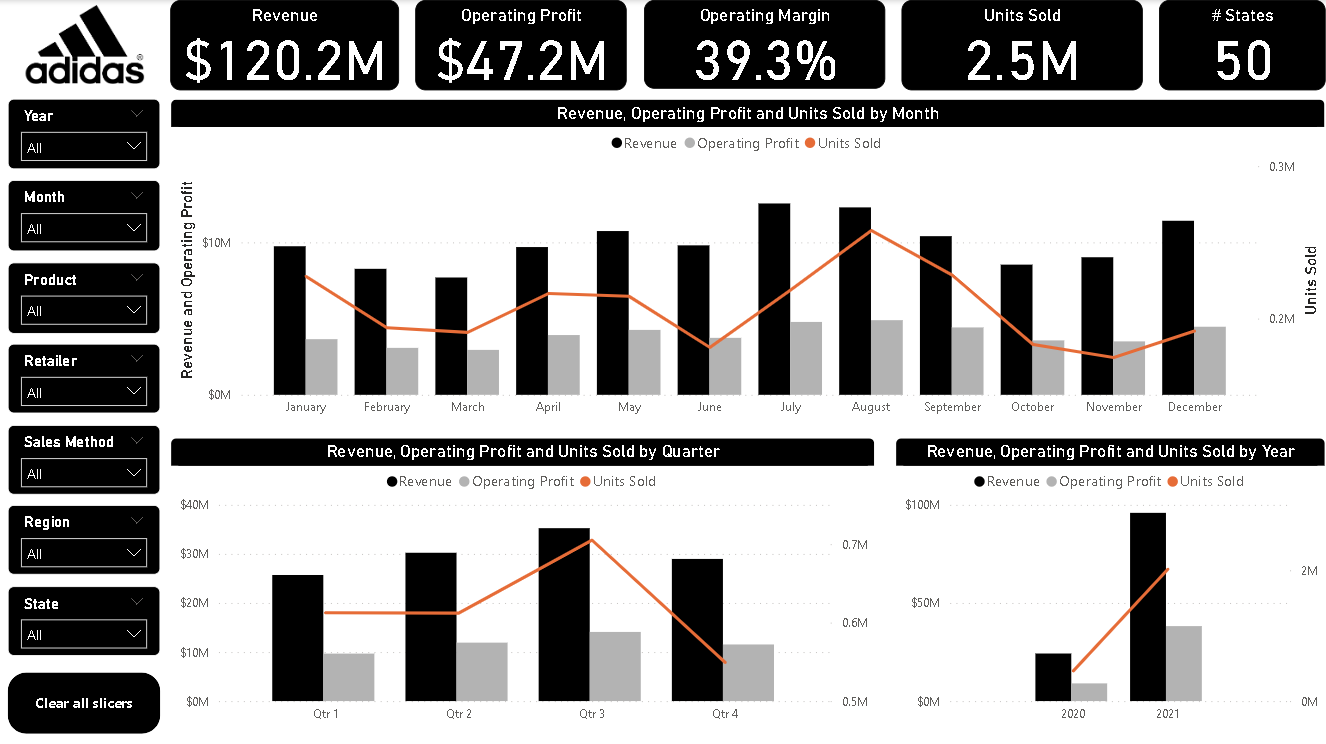

This screenshot's page, from the dashboard's own definition file:
{"tool":"powerbi","page":{"name":"Time","canvas":[1280,720],"ordinal":0},"visuals":[{"type":"card","title":"Revenue","fields":{"Values":["Sum(Data Sales Adidas.Revenue)"]},"box":[165.2,0,220.7,86.8],"z":0},{"type":"card","title":"Operating Profit","fields":{"Values":["Sum(Data Sales Adidas.Operating Profit)"]},"box":[402,0,203.8,86.8],"z":1000},{"type":"card","title":"Operating Margin","fields":{"Values":["Data Sales Adidas.Operating Margin Measure"]},"box":[621.9,0,232.8,85.6],"z":2000},{"type":"card","title":"Units Sold","fields":{"Values":["Sum(Data Sales Adidas.Units Sold)"]},"box":[870.8,0,232.8,86.8],"z":3000},{"type":"lineClusteredColumnComboChart","fields":{"Category":["Data Sales Adidas.Invoice Date.Variation.Date Hierarchy.Quarter"],"Y":["Sum(Data Sales Adidas.Revenue)","Sum(Data Sales Adidas.Operating Profit)"],"Y2":["Sum(Data Sales Adidas.Units Sold)"]},"box":[165.2,422.1,680.2,285.8],"z":4000},{"type":"lineClusteredColumnComboChart","fields":{"Category":["Data Sales Adidas.Invoice Date.Variation.Date Hierarchy.Month"],"Y":["Sum(Data Sales Adidas.Revenue)","Sum(Data Sales Adidas.Operating Profit)"],"Y2":["Sum(Data Sales Adidas.Units Sold)"]},"box":[165.2,95.3,1114.4,317.2],"z":5000},{"type":"lineClusteredColumnComboChart","fields":{"Category":["Data Sales Adidas.Invoice Date.Variation.Date Hierarchy.Year"],"Y":["Sum(Data Sales Adidas.Revenue)","Sum(Data Sales Adidas.Operating Profit)"],"Y2":["Sum(Data Sales Adidas.Units Sold)"]},"box":[864.7,422.1,414.9,285.8],"z":6000},{"type":"slicer","fields":{"Values":["Data Sales Adidas.Invoice Date.Variation.Date Hierarchy.Year"]},"box":[8.4,95.3,147,68],"z":7000},{"type":"slicer","fields":{"Values":["Data Sales Adidas.Invoice Date.Variation.Date Hierarchy.Month"]},"box":[8.4,173.7,147.1,68.7],"z":8000},{"type":"slicer","fields":{"Values":["Data Sales Adidas.Region"]},"box":[8.4,487.7,147.1,67.5],"z":9000},{"type":"slicer","fields":{"Values":["Data Sales Adidas.State"]},"box":[8.4,565.6,147.1,67.5],"z":10000},{"type":"slicer","fields":{"Values":["Data Sales Adidas.Product"]},"box":[8.4,252.8,147.1,68.7],"z":11000},{"type":"slicer","fields":{"Values":["Data Sales Adidas.Retailer"]},"box":[8.4,331.9,147.1,67.5],"z":12000},{"type":"slicer","fields":{"Values":["Data Sales Adidas.Sales Method"]},"box":[8.4,409.8,147.1,67.5],"z":13000},{"type":"card","title":"# States","fields":{"Values":["Count(Data Sales Adidas.State)"]},"box":[1119.6,0,160.4,86.8],"z":14000},{"type":"actionButton","box":[8.4,648.8,147.1,59.1],"z":15000},{"type":"image","box":[0,0,165.2,85.6],"z":16000}]}

Visuals, with their boxes in screenshot pixels (x1, y1, x2, y2), scaled from the page's 1280x720 canvas onto the 1326x744 screenshot:
"Revenue" card: detection(171, 0, 400, 90)
"Operating Profit" card: detection(416, 0, 628, 90)
"Operating Margin" card: detection(644, 0, 885, 88)
"Units Sold" card: detection(902, 0, 1143, 90)
lineClusteredColumnComboChart - Data Sales Adidas.Invoice Date.Variation.Date Hierarchy.Quarter x Sum(Data Sales Adidas.Revenue): detection(171, 436, 876, 731)
lineClusteredColumnComboChart - Data Sales Adidas.Invoice Date.Variation.Date Hierarchy.Month x Sum(Data Sales Adidas.Revenue): detection(171, 98, 1325, 426)
lineClusteredColumnComboChart - Data Sales Adidas.Invoice Date.Variation.Date Hierarchy.Year x Sum(Data Sales Adidas.Revenue): detection(896, 436, 1325, 731)
slicer - Data Sales Adidas.Invoice Date.Variation.Date Hierarchy.Year: detection(9, 98, 161, 169)
slicer - Data Sales Adidas.Invoice Date.Variation.Date Hierarchy.Month: detection(9, 179, 161, 250)
slicer - Data Sales Adidas.Region: detection(9, 504, 161, 574)
slicer - Data Sales Adidas.State: detection(9, 584, 161, 654)
slicer - Data Sales Adidas.Product: detection(9, 261, 161, 332)
slicer - Data Sales Adidas.Retailer: detection(9, 343, 161, 413)
slicer - Data Sales Adidas.Sales Method: detection(9, 423, 161, 493)
"# States" card: detection(1160, 0, 1325, 90)
actionButton: detection(9, 670, 161, 731)
image: detection(0, 0, 171, 88)
